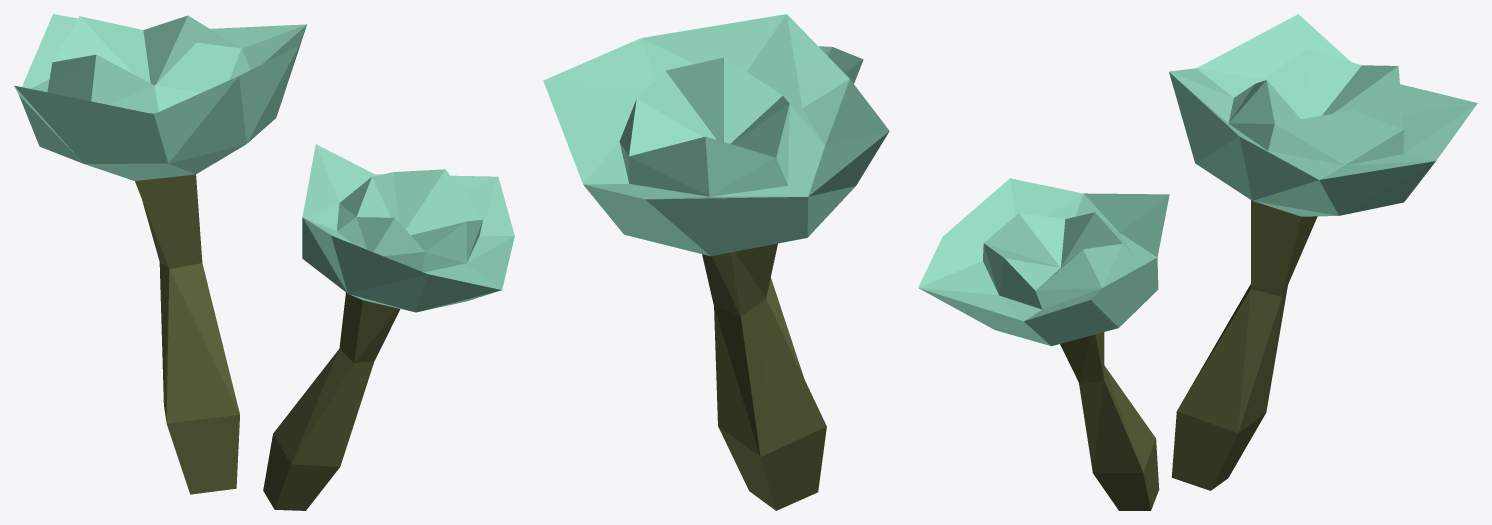
The model's file is SM_Env_Flower_02.glb.
3 renders of one model, left to right at view 1: azimuth 30°, elevation 25°; view 2: azimuth 150°, elevation 25°; view 3: azimuth 270°, elevation 25°, orthographic. The views are drawn at different scales.
Visible parts, largest first — view 1: SM_Env_Flower_02; view 2: SM_Env_Flower_02; view 3: SM_Env_Flower_02.
Boxes of the visible parts, x1,y1,x2,y2 form: SM_Env_Flower_02: (14,14,514,510); SM_Env_Flower_02: (543,14,889,510); SM_Env_Flower_02: (918,14,1477,510).
Bounding box in the file's own units: 3 × 3.23 × 3.9.
Materials: 1 (1 with a texture image).
